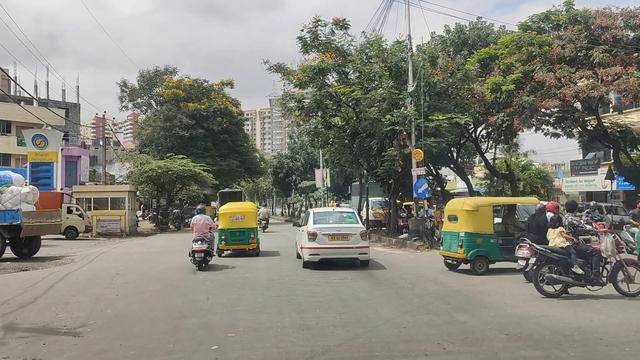LMV: (295, 209, 370, 269), (217, 202, 260, 256), (183, 207, 216, 270)
